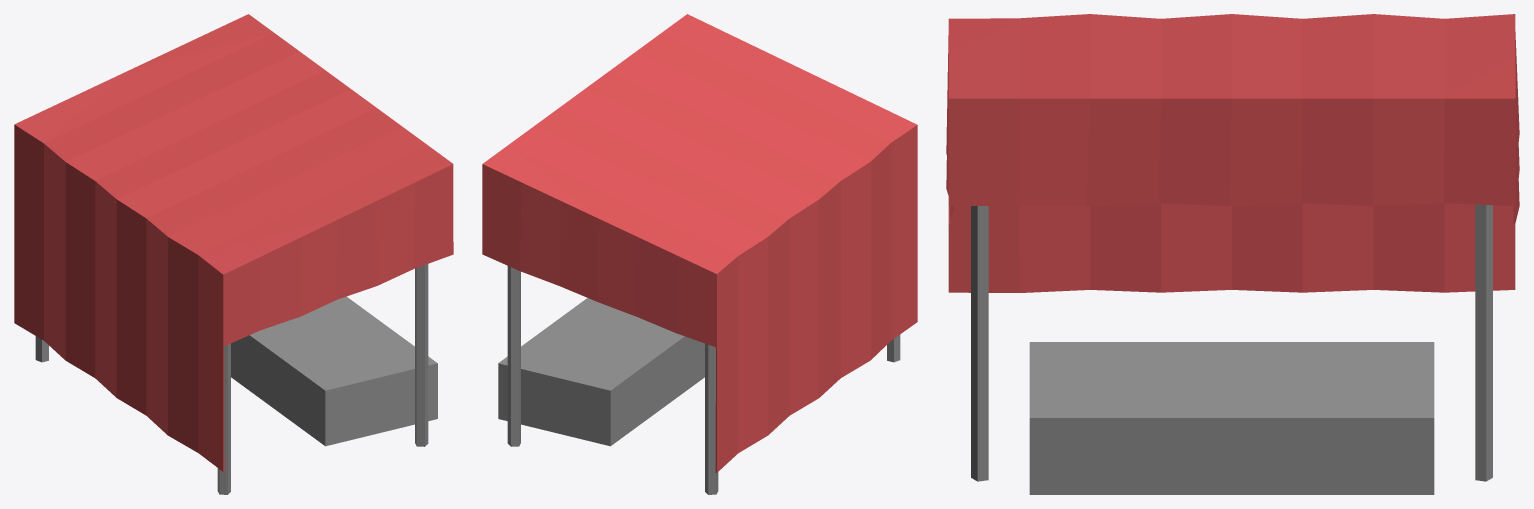
File: rowyatai.fbx
3 views of the same model, side by side, from view 1: azimuth 30°, elevation 25°; view 2: azimuth 150°, elevation 25°; view 3: azimuth 270°, elevation 25° (orthographic). The views are drawn at different scales.
Visible parts, largest first — view 1: 立方体, 立方体.001, 円柱; view 2: 立方体, 立方体.001, 円柱; view 3: 立方体, 立方体.001, 円柱.
Boxes of the visible parts, x1,y1,x2,y2 form: 立方体: (14,14,453,471); 立方体.001: (231,296,437,446); 円柱: (35,264,428,494); 立方体: (482,14,917,472); 立方体.001: (498,298,704,446); 円柱: (507,266,900,494); 立方体: (946,14,1519,292); 立方体.001: (1029,342,1434,494); 円柱: (971,204,1492,481).
Size of the model in its own units: 196 by 214 by 283.
